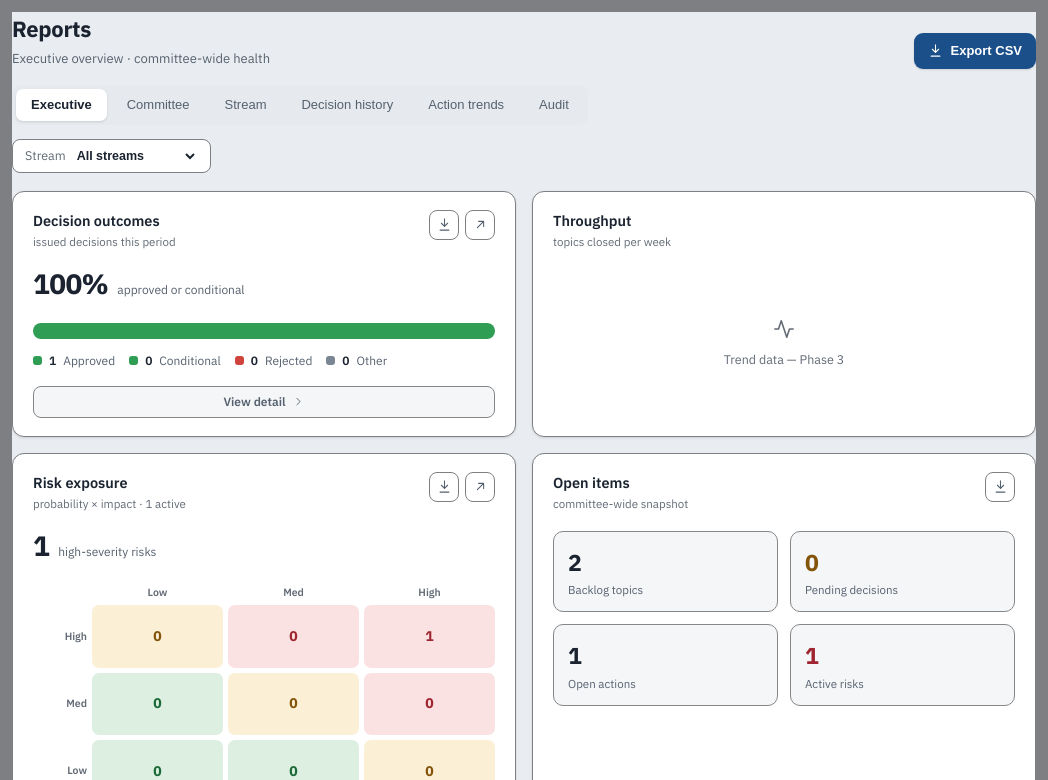
it: ReportsPage (P12-PR3 shell) › narrows the data when a stream is selected
Click the tab "Committee" at {"x": 158, "y": 104}, box [112,88,205,120]
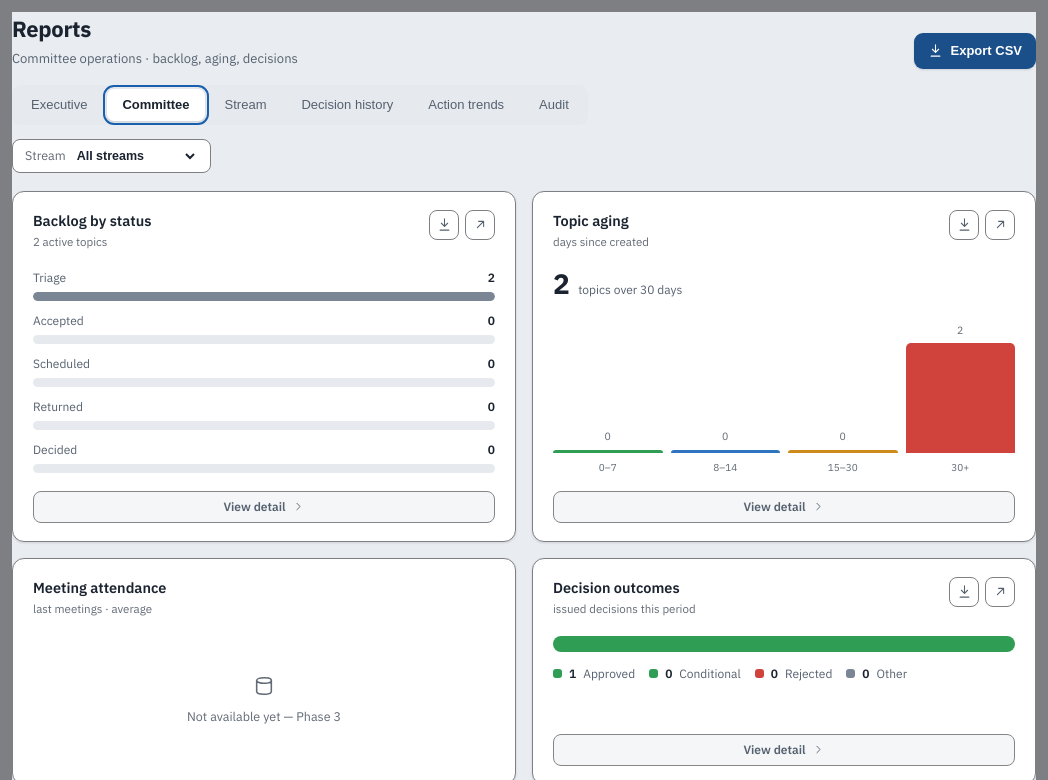
Expected: the text "2 active topics" is shown, [33,234,107,249]
Select "Identity & Access" in the dropdown at {"x": 135, "y": 156}, box [73,148,198,164]
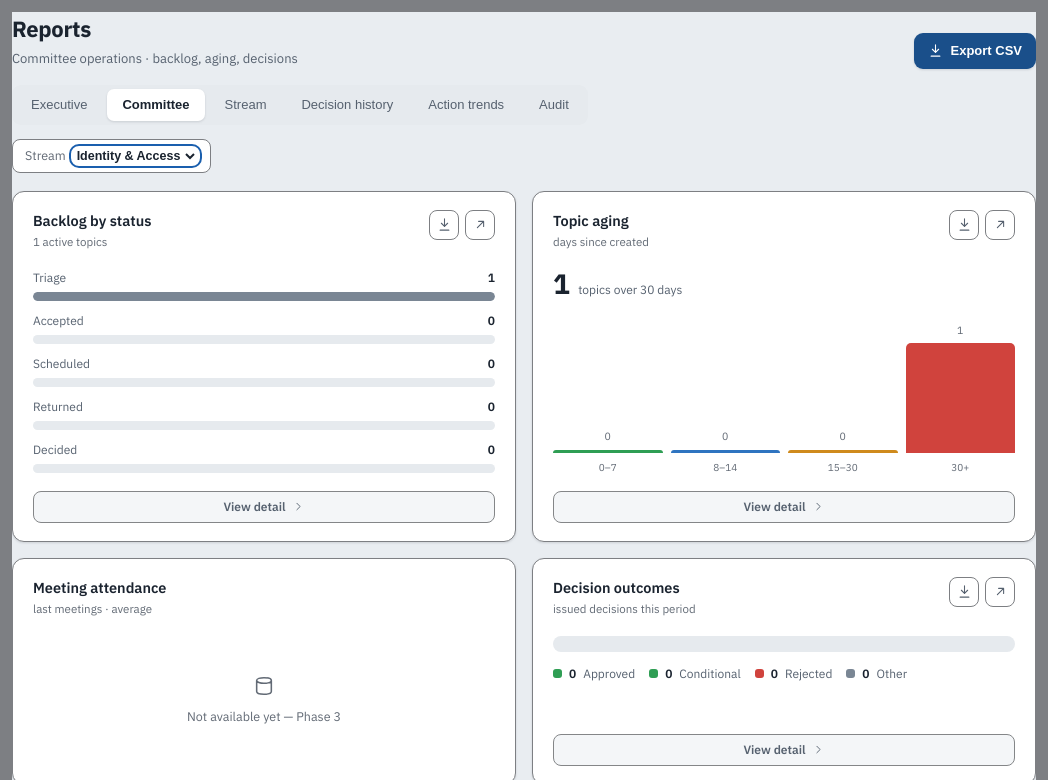
Expected: the text "1 active topics" is shown, [33,234,107,249]
